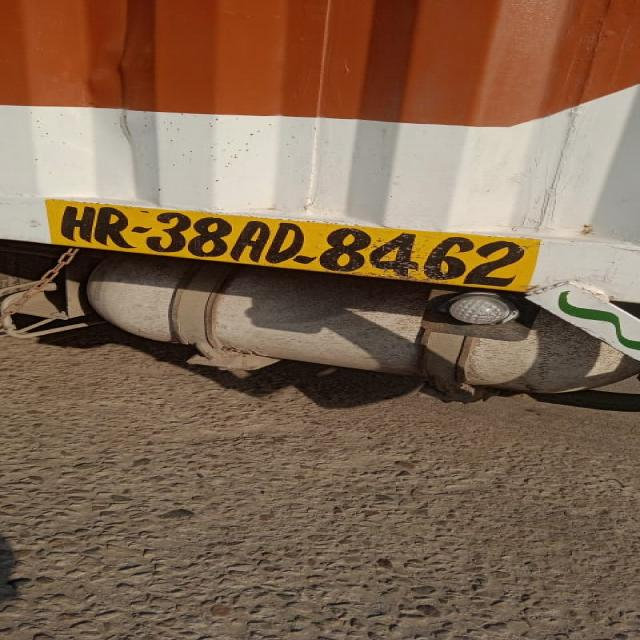License-plate: (49, 197, 541, 289)
